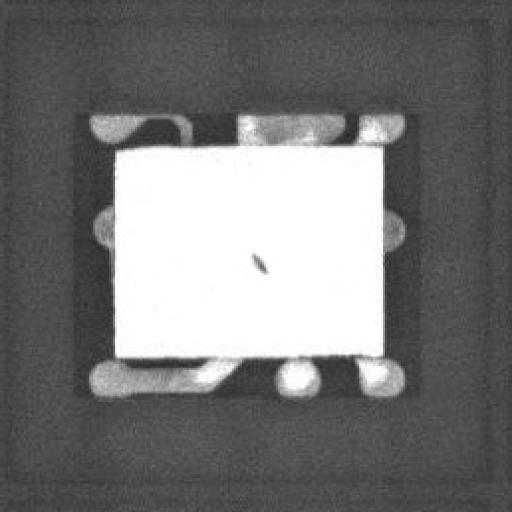DIE_INK: (237, 260, 256, 284)
